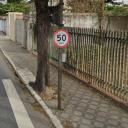speed_limit_50: (52, 28, 70, 48)
